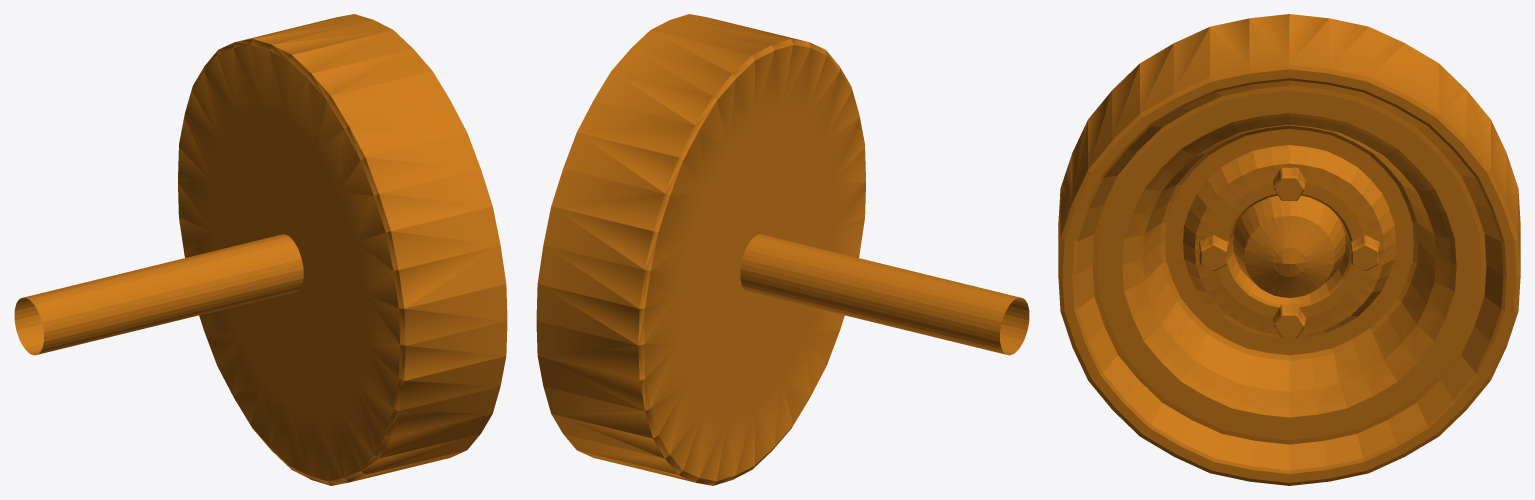
The model's file is tank-wheel.dae.
The picture shows the model from 3 angles, left to right: view 1: azimuth 30°, elevation 25°; view 2: azimuth 150°, elevation 25°; view 3: azimuth 270°, elevation 25°; orthographic projection.
Visible parts, largest first — view 1: TankWheel; view 2: TankWheel; view 3: TankWheel.
Boxes of the visible parts, box(x1,y1,x2,y2) form: TankWheel: box(14, 14, 507, 485); TankWheel: box(536, 14, 1029, 485); TankWheel: box(1058, 14, 1520, 485).
Size of the model in its own units: 0.5731 by 0.6169 by 0.6203.
